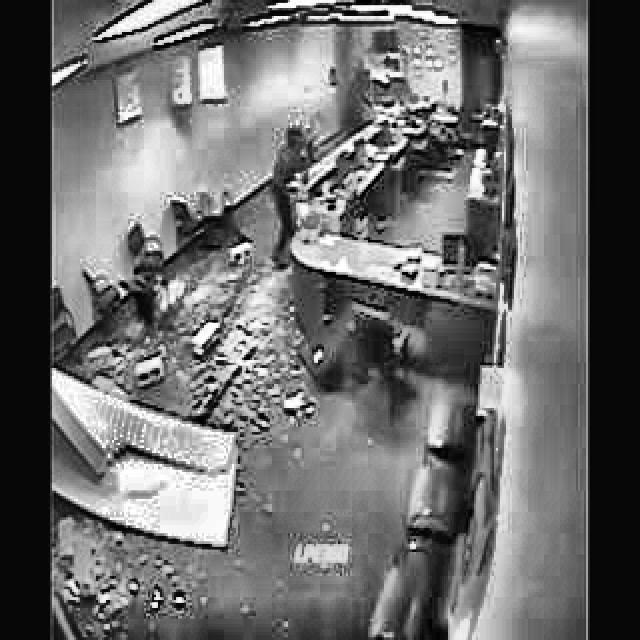burglary: (254, 114, 336, 282), (344, 48, 448, 148)
